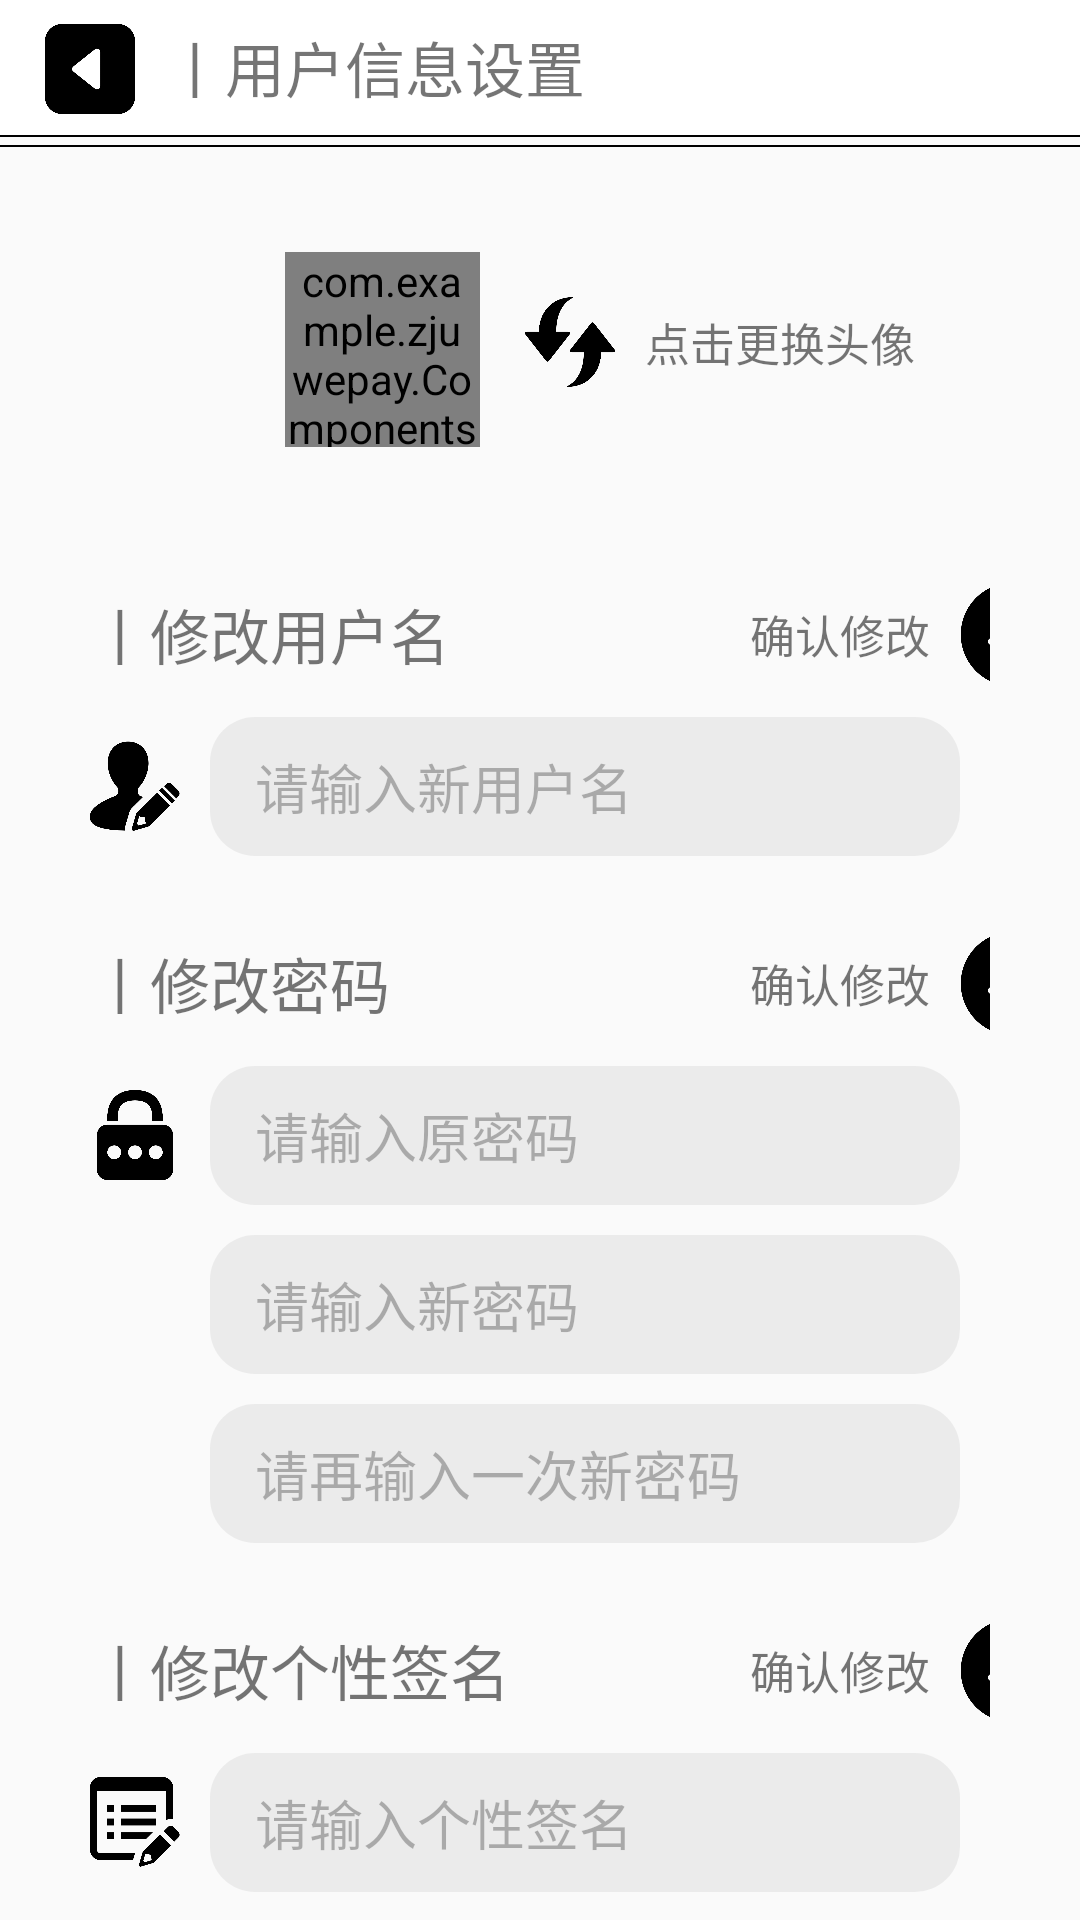

Locate icon controls on the screen. Image size 1080 × 1920, boxes as (x1, y1, x2, y2).
back: (45, 24, 135, 114)
edit talk: (90, 1777, 180, 1867)
edit user: (90, 741, 180, 831)
password: (97, 1090, 173, 1180)
refresh: (525, 297, 615, 387)
